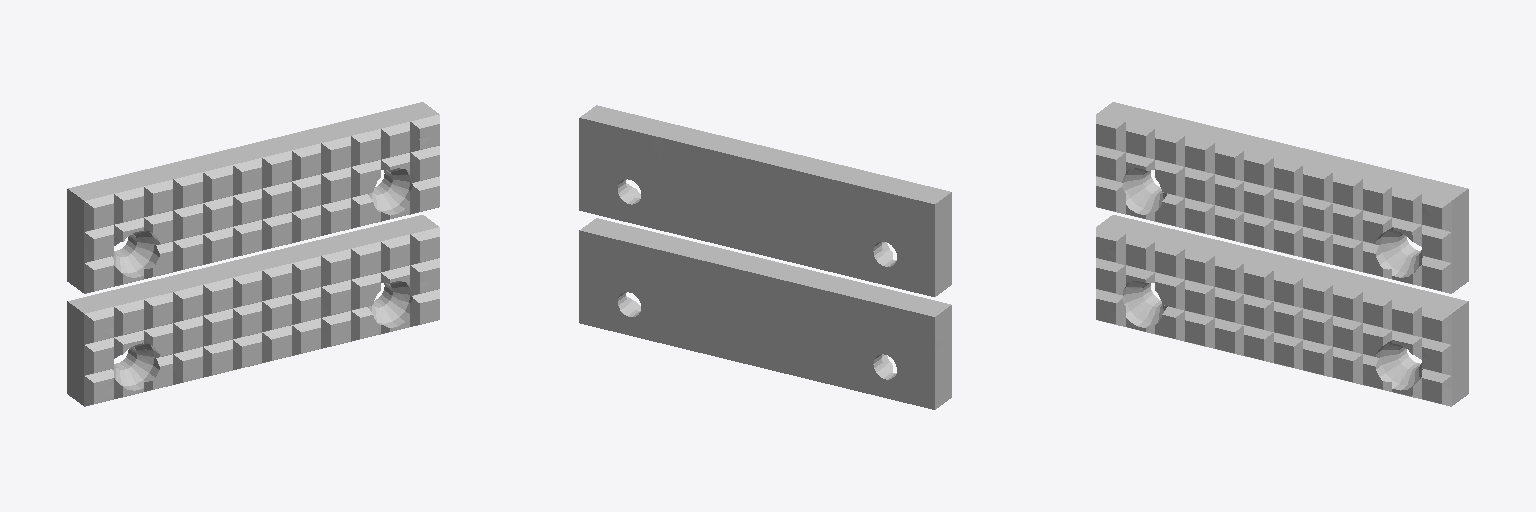
The model's file is benchvise_jaw_plate.stl__sf.obj.
3 renders of one model, left to right at view 1: azimuth 30°, elevation 25°; view 2: azimuth 150°, elevation 25°; view 3: azimuth 330°, elevation 25°, orthographic.
Size of the model in its own units: 66 by 36.5 by 7.